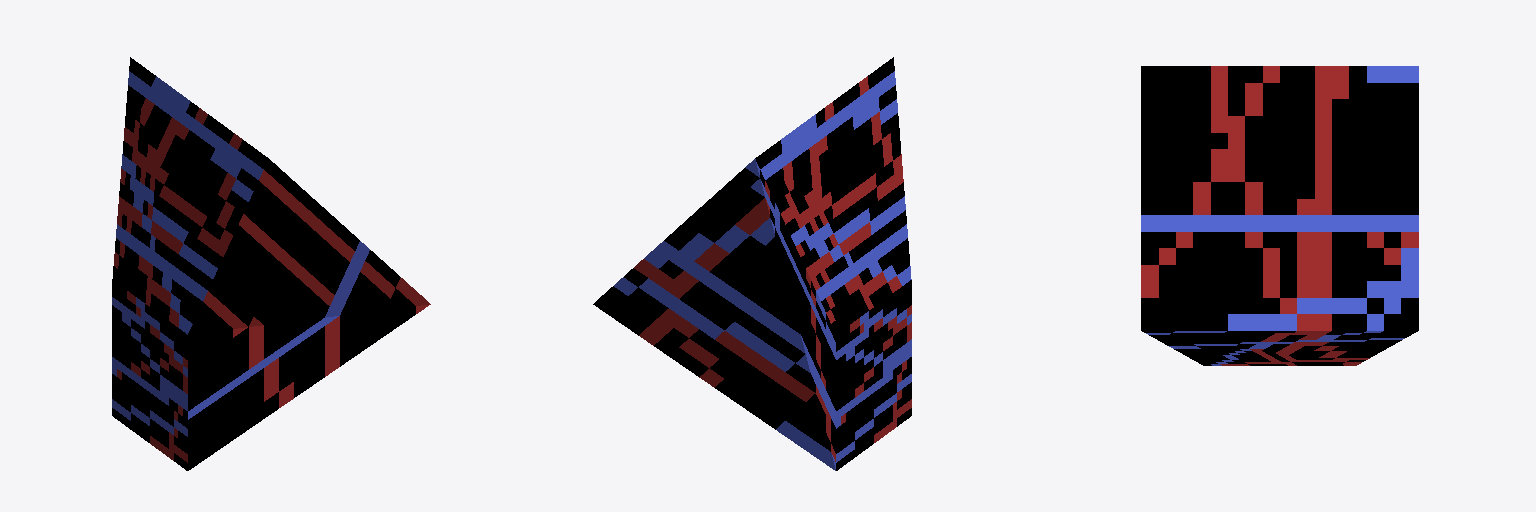
3 views of the same model, side by side, from view 1: azimuth 30°, elevation 25°; view 2: azimuth 150°, elevation 25°; view 3: azimuth 270°, elevation 25° (orthographic).
Visible parts, largest first — view 1: Cube; view 2: Cube; view 3: Cube.
Boxes of the visible parts, box(x1,y1,x2,y2) form: Cube: box(112, 57, 430, 470); Cube: box(593, 57, 911, 470); Cube: box(1141, 66, 1418, 365).
Size of the model in its own units: 3.24 by 4.74 by 3.68.
1 materials, 1 textured.